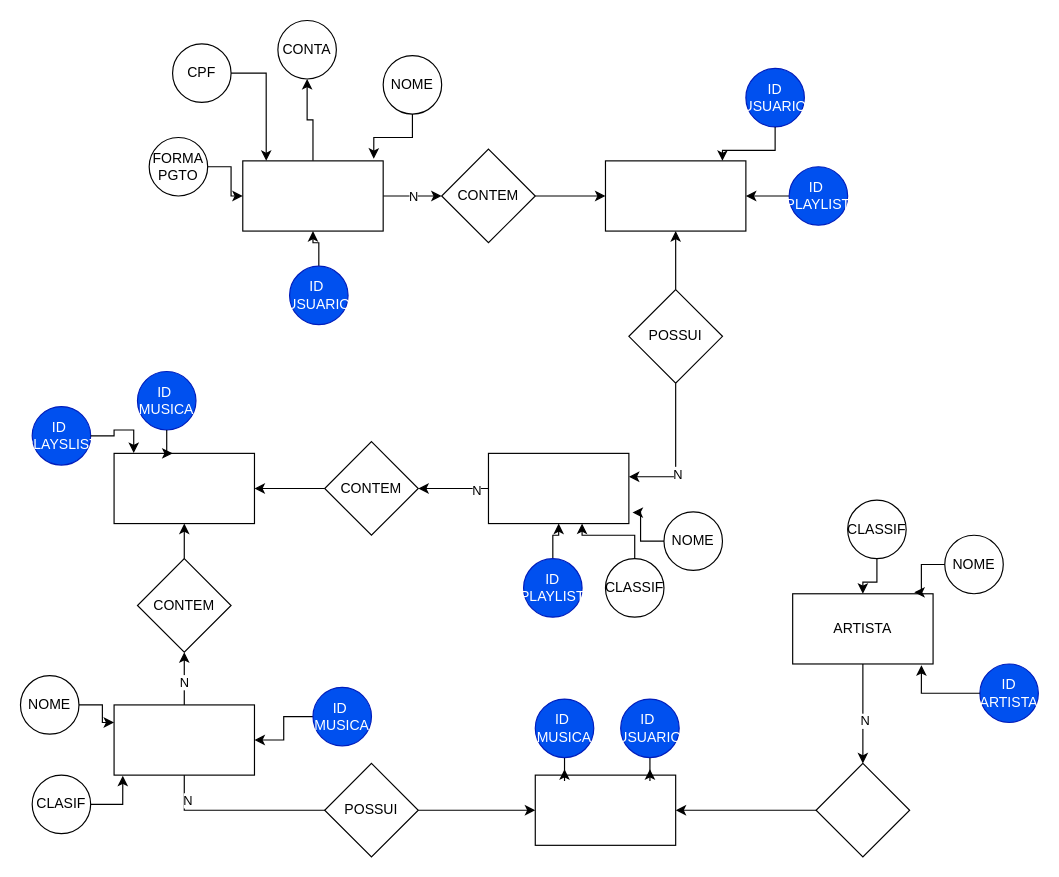
The diagram is 1059 pixels wide and 877 high, and some of its shapes have lost their labels. Here are the shapes that lost their labels. From the top down, the centre of each, then its label:
the point at 312,195: USUARIO
the point at 675,195: PLAYLIST USUARIO
the point at 183,488: PLAYLIST MUSICAS
the point at 558,488: PLAYLIST
the point at 183,739: MUSICAS
the point at 605,809: MUSICA USUARIO
the point at 862,809: PARTICIPA
